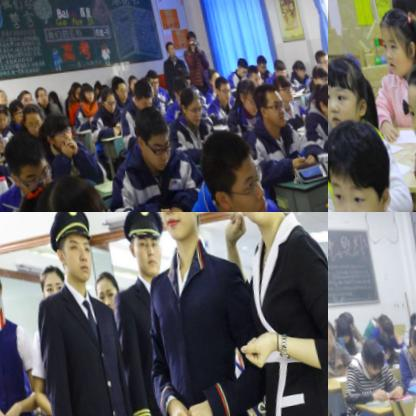head: (187, 121, 266, 212), (328, 119, 397, 212), (40, 212, 100, 288), (0, 128, 50, 198), (115, 212, 167, 279), (328, 55, 371, 131), (370, 5, 416, 76), (27, 174, 111, 212), (125, 103, 170, 171), (391, 56, 416, 159), (142, 212, 210, 246), (87, 267, 122, 319), (248, 79, 283, 128), (31, 263, 67, 309), (35, 111, 72, 155), (355, 336, 385, 377), (384, 0, 416, 36), (170, 86, 199, 125), (230, 77, 256, 115), (267, 68, 292, 106), (309, 75, 328, 122), (15, 105, 41, 138), (126, 76, 150, 108), (304, 60, 328, 90), (208, 75, 231, 105), (331, 316, 352, 348), (164, 73, 187, 101), (369, 312, 392, 340), (372, 329, 392, 361), (307, 42, 328, 71), (0, 99, 22, 125), (402, 320, 416, 359), (240, 61, 259, 88), (139, 65, 157, 93), (337, 308, 355, 336), (286, 56, 306, 79), (94, 87, 112, 112), (402, 308, 416, 339), (109, 76, 125, 103), (266, 54, 284, 77), (28, 83, 45, 106), (11, 87, 30, 107), (202, 63, 217, 88), (74, 80, 90, 103), (230, 53, 246, 76), (63, 80, 79, 102), (250, 52, 265, 74), (120, 72, 134, 92), (180, 26, 194, 45), (160, 38, 173, 58), (39, 88, 54, 105), (85, 76, 98, 95), (328, 319, 334, 353), (0, 102, 5, 128), (0, 86, 4, 109)
